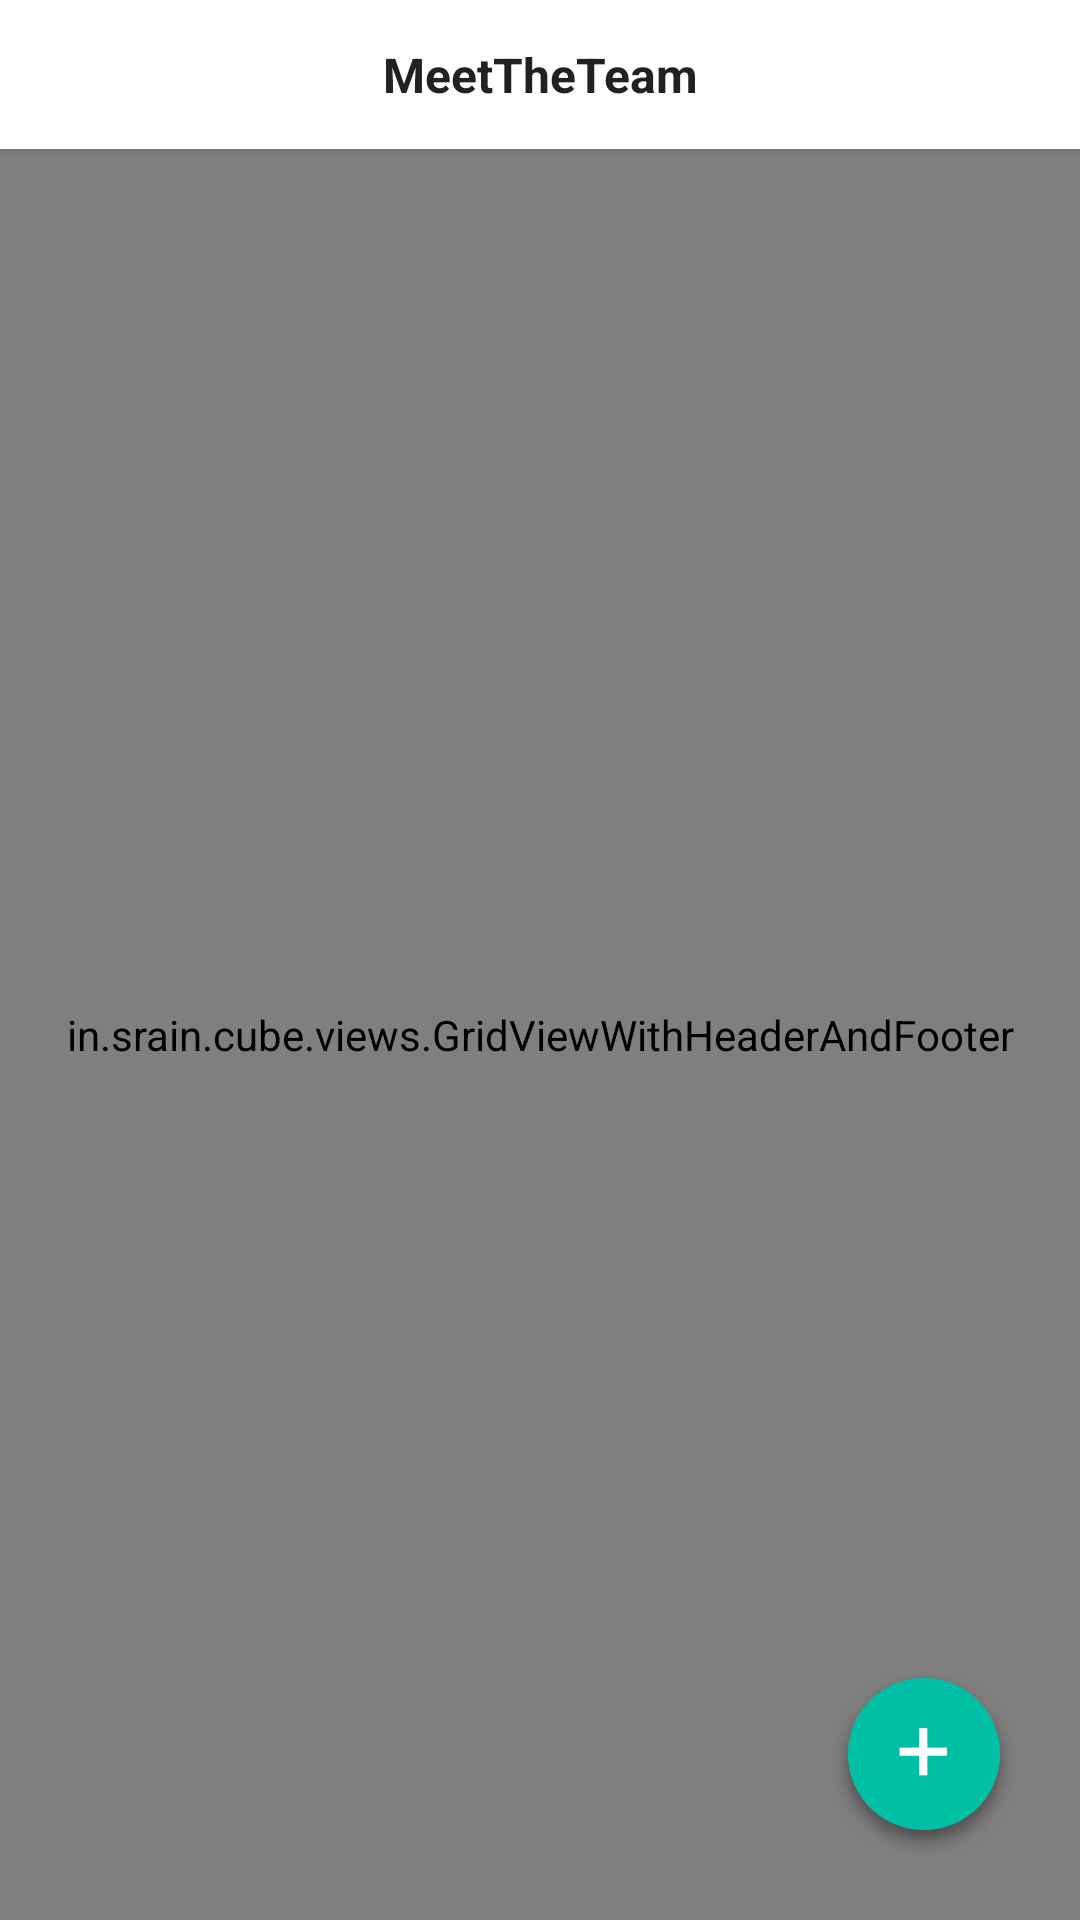

Icon bounding boxes for this 1080px×1920px phone screenshot, format {"x1": x1, "y1": y1, "x2": x2, "y2": y2}:
add: {"x1": 848, "y1": 1678, "x2": 1000, "y2": 1840}
